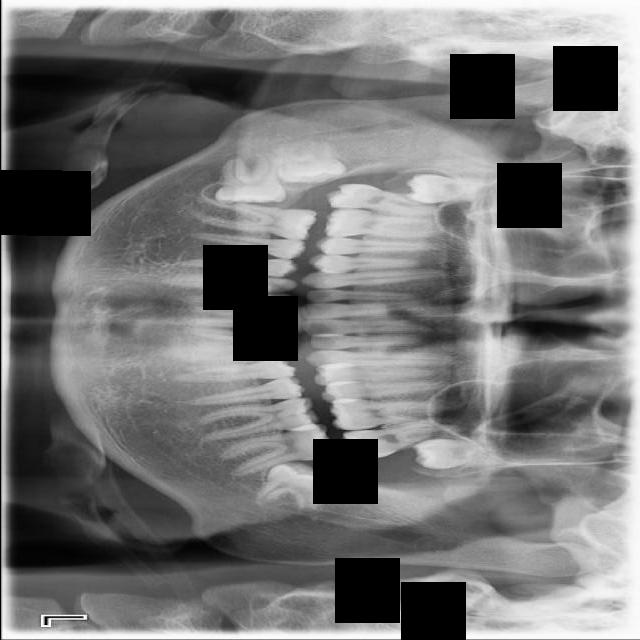3M ESPE Implant: (404, 172, 520, 210)
73: (59, 590, 70, 593)
BioHorizons Implant: (338, 412, 477, 463)
BioLife Implant: (412, 434, 519, 471)
Biomet 3i Implant: (254, 458, 339, 514)
Blue Sky Bio Implant: (217, 419, 339, 480)
Caries: (324, 180, 442, 218)
Implant: (214, 150, 286, 205)
Keystone Dental Implant: (273, 136, 347, 187)
